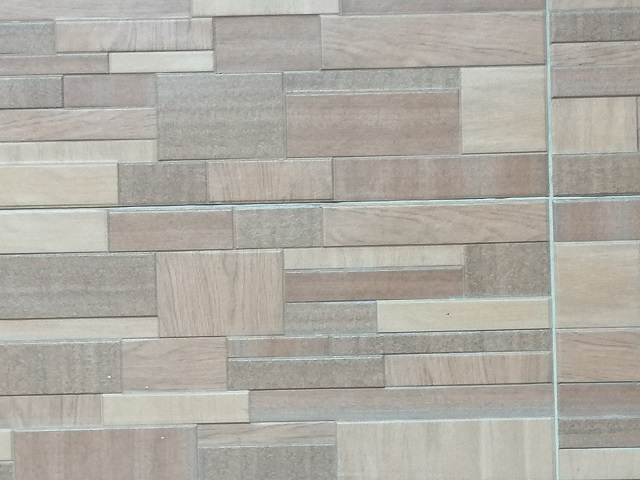wall: (4, 2, 640, 480)
